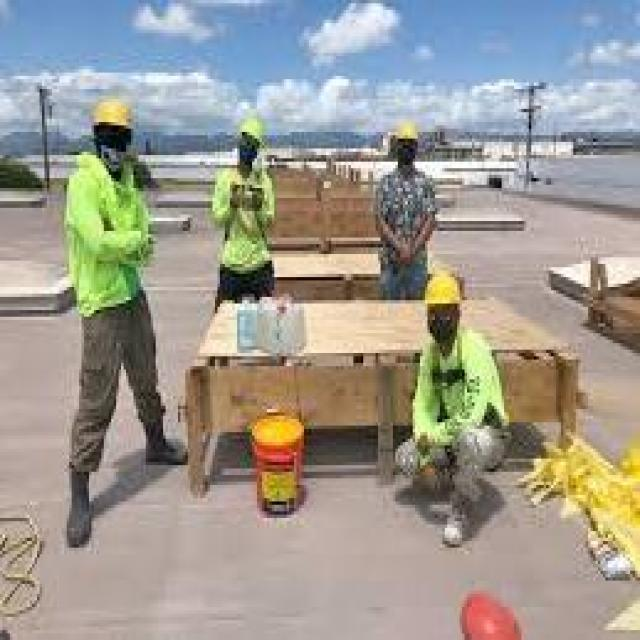Reflective-Jacket: (47, 145, 163, 323), (398, 323, 519, 475), (205, 155, 284, 297)
Safety-Helmet: (447, 580, 538, 640), (79, 82, 146, 148), (412, 264, 470, 320), (227, 99, 277, 158), (386, 109, 428, 158)
